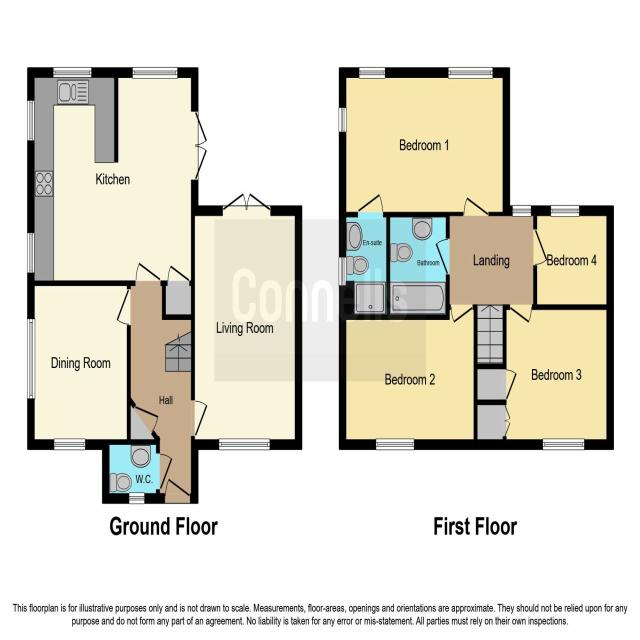DOOR: (164, 477, 191, 504), (191, 399, 209, 438), (357, 192, 384, 218), (156, 452, 174, 490), (135, 261, 161, 287), (434, 237, 450, 276), (115, 288, 131, 326), (533, 228, 548, 266), (462, 196, 489, 217), (509, 304, 533, 324), (450, 304, 473, 324)
DOUBLE DOOR: (191, 110, 208, 181), (222, 192, 271, 216)
ROOM: (27, 67, 208, 320), (190, 191, 303, 451), (338, 67, 510, 218), (473, 304, 614, 450), (339, 304, 478, 450), (27, 280, 131, 450), (533, 205, 614, 310)
WINDOW: (26, 317, 36, 400), (218, 438, 270, 451), (132, 67, 178, 80), (542, 438, 585, 451), (448, 67, 493, 79), (375, 438, 415, 451), (53, 438, 86, 451), (53, 67, 92, 78), (550, 205, 580, 217), (27, 99, 35, 142), (27, 232, 35, 274), (359, 67, 385, 79), (338, 257, 347, 286), (512, 205, 531, 217), (338, 107, 347, 132), (129, 492, 145, 505)
